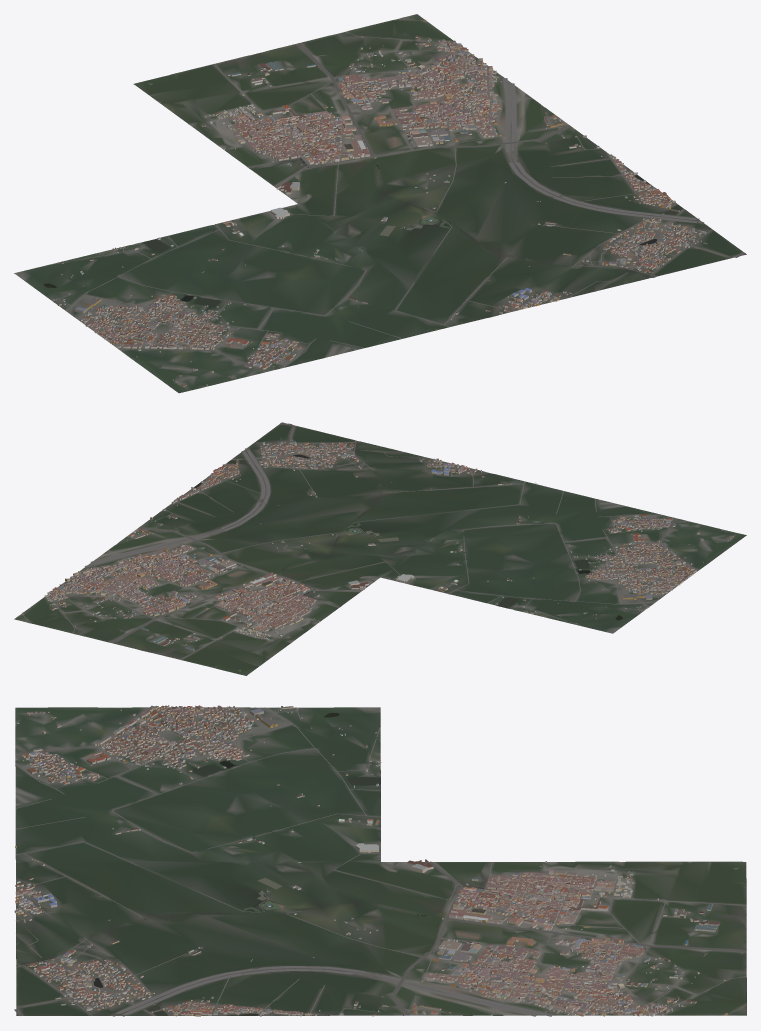
3 views of the same model, one above another, from view 1: azimuth 30°, elevation 25°; view 2: azimuth 150°, elevation 25°; view 3: azimuth 270°, elevation 25° (orthographic). The views are drawn at different scales.
Parts seen in each view (by area): view 1: ground, buildings, roads, water; view 2: ground, buildings, roads, water; view 3: ground, buildings, roads, water.
Boxes of the visible parts, x1,y1,x2,y2 form: ground: [14, 14, 746, 393]; buildings: [53, 19, 707, 386]; roads: [19, 19, 745, 371]; water: [43, 158, 682, 307]; ground: [14, 422, 746, 675]; buildings: [22, 438, 733, 650]; roads: [21, 423, 697, 659]; water: [194, 441, 622, 620]; ground: [15, 707, 746, 1015]; buildings: [14, 705, 727, 1016]; roads: [14, 707, 746, 1016]; water: [16, 713, 483, 1015].
Bounding box in the file's own units: 2811 × 23.35 × 2813.
